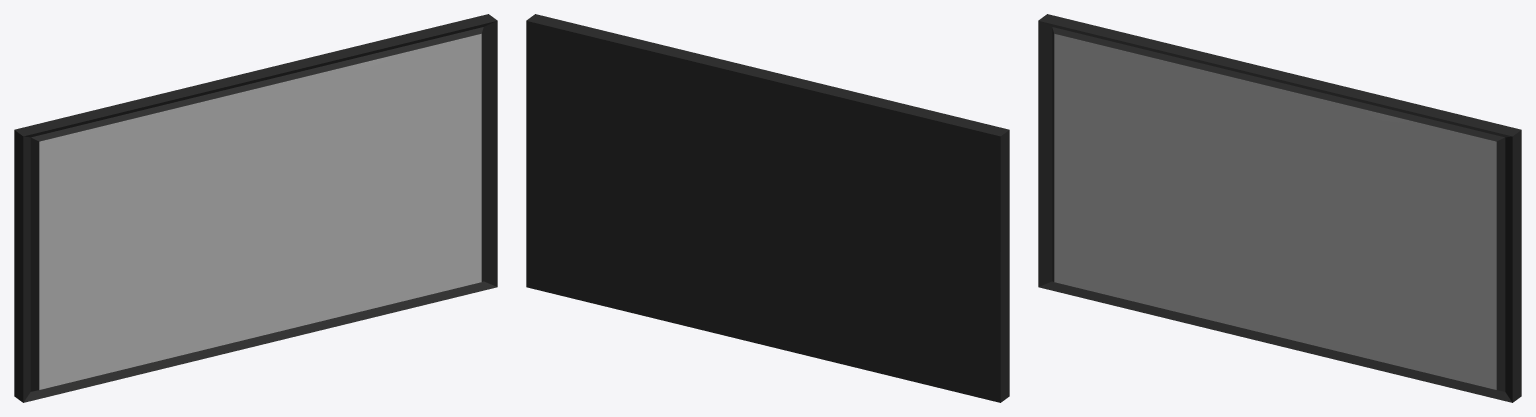
File: Display.fbx
3 views of the same model, side by side, from view 1: azimuth 30°, elevation 25°; view 2: azimuth 150°, elevation 25°; view 3: azimuth 330°, elevation 25° (orthographic).
Parts seen in each view (by area): view 1: Cube; view 2: Cube; view 3: Cube.
Part boxes in pixels (box(x1,y1,x2,y2)): Cube: box(14, 14, 497, 402); Cube: box(526, 14, 1009, 402); Cube: box(1038, 14, 1521, 402).
Size of the model in its own units: 373 by 200 by 12.48.
Materials: 1 (1 with a texture image).
